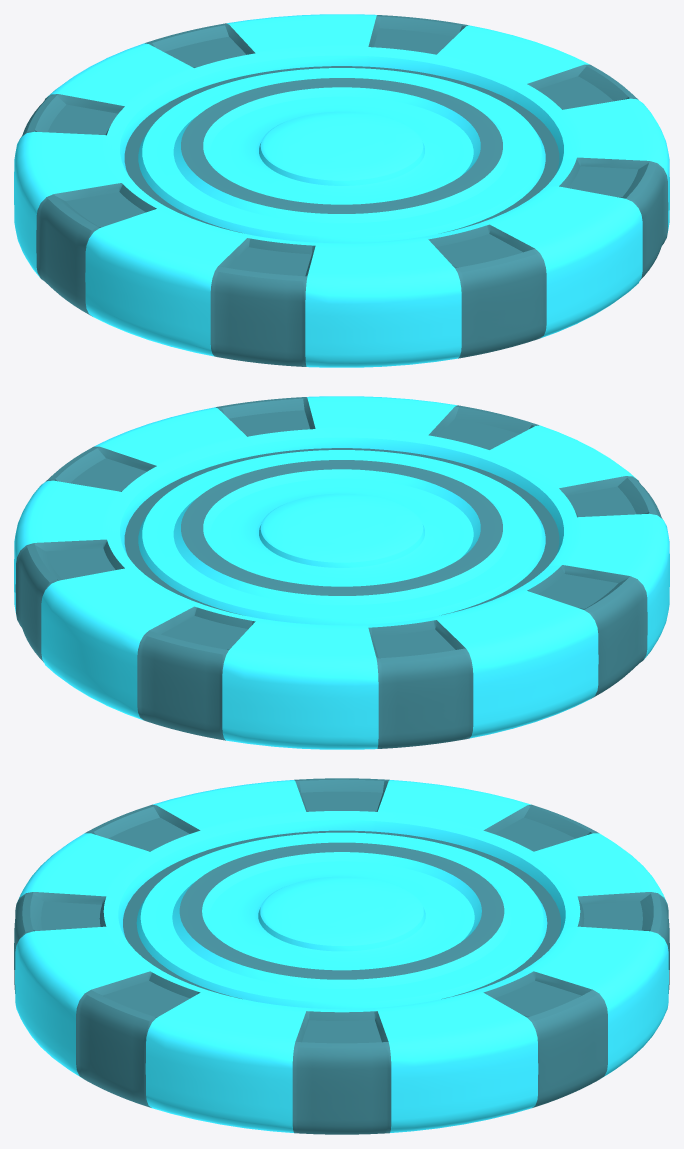
Rendered from PokerChip_Cyan.glb.
3 views of the same model, one above another, from view 1: azimuth 30°, elevation 25°; view 2: azimuth 150°, elevation 25°; view 3: azimuth 270°, elevation 25° (orthographic).
Parts seen in each view (by area): view 1: PokerChip_Cyan; view 2: PokerChip_Cyan; view 3: PokerChip_Cyan.
Boxes of the visible parts, left/top/right/bottom form: PokerChip_Cyan: left=14, top=14, right=669, bottom=367; PokerChip_Cyan: left=14, top=396, right=669, bottom=749; PokerChip_Cyan: left=14, top=778, right=669, bottom=1134.
Size of the model in its own units: 1.98 by 0.324 by 1.98.
